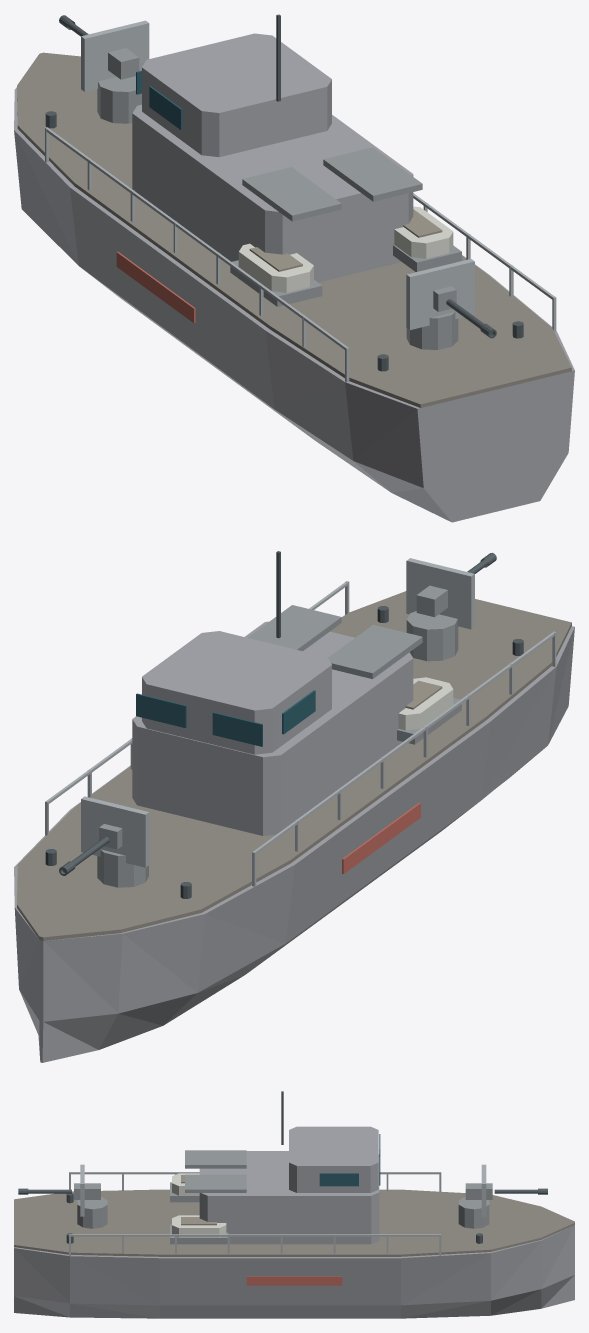
Rendered from ENE_Ww2FastGunboat.fbx.
The picture shows the model from 3 angles, top to bottom: view 1: azimuth 30°, elevation 25°; view 2: azimuth 150°, elevation 25°; view 3: azimuth 270°, elevation 25°; orthographic projection. The views are drawn at different scales.
Visible parts, largest first — view 1: HardChineHull, FittedDeck, LowDeckhouse, NavigationCabin, LightGunShield, EngineHatch.001, EngineHatch, LightGunShield.001, CarleyFloat, LightGunPedestal.001, TopRail, CarleyFloat.001 (+7 smaller); view 2: HardChineHull, FittedDeck, LowDeckhouse, NavigationCabin, LightGunShield.001, EngineHatch, LightGunShield, EngineHatch.001, LightGunPedestal, TopRail, CarleyFloat, LightGunPedestal.001 (+6 smaller); view 3: HardChineHull, FittedDeck, LowDeckhouse, NavigationCabin, EngineHatch, EngineHatch.001, TopRail.001, EnemyRecognitionBand.001, LightGunPedestal.001, LightGunPedestal, CarleyFloat.001, SideWindow.001 (+6 smaller).
Boxes of the visible parts, <box> form: HardChineHull: <box>14,87,574,522</box>; FittedDeck: <box>17,52,571,407</box>; LowDeckhouse: <box>132,104,413,282</box>; NavigationCabin: <box>142,33,331,157</box>; LightGunShield: <box>406,259,474,329</box>; EngineHatch.001: <box>323,147,422,201</box>; EngineHatch: <box>242,167,341,221</box>; LightGunShield.001: <box>81,20,149,91</box>; CarleyFloat: <box>238,243,313,292</box>; LightGunPedestal.001: <box>97,76,141,123</box>; TopRail: <box>46,128,346,349</box>; CarleyFloat.001: <box>394,206,453,258</box>; HardChineHull: <box>14,616,574,1062</box>; FittedDeck: <box>17,591,571,940</box>; LowDeckhouse: <box>132,621,413,835</box>; NavigationCabin: <box>142,631,331,754</box>; LightGunShield.001: <box>81,796,149,867</box>; EngineHatch: <box>328,624,422,679</box>; LightGunShield: <box>406,558,474,629</box>; EngineHatch.001: <box>247,605,341,651</box>; LightGunPedestal: <box>406,611,458,661</box>; TopRail: <box>254,632,554,853</box>; CarleyFloat: <box>398,677,453,730</box>; LightGunPedestal.001: <box>97,849,148,887</box>; HardChineHull: <box>14,1225,574,1318</box>; FittedDeck: <box>14,1189,574,1256</box>; LowDeckhouse: <box>199,1151,379,1244</box>; NavigationCabin: <box>289,1126,378,1192</box>; EngineHatch: <box>185,1150,246,1168</box>; EngineHatch.001: <box>185,1174,246,1192</box>; TopRail.001: <box>71,1234,439,1236</box>; EnemyRecognitionBand.001: <box>246,1276,342,1285</box>; LightGunPedestal.001: <box>458,1197,489,1228</box>; LightGunPedestal: <box>77,1197,107,1228</box>; CarleyFloat.001: <box>172,1215,226,1237</box>; SideWindow.001: <box>319,1173,358,1186</box>.
Size of the model in its own units: 162 by 229 by 560.
